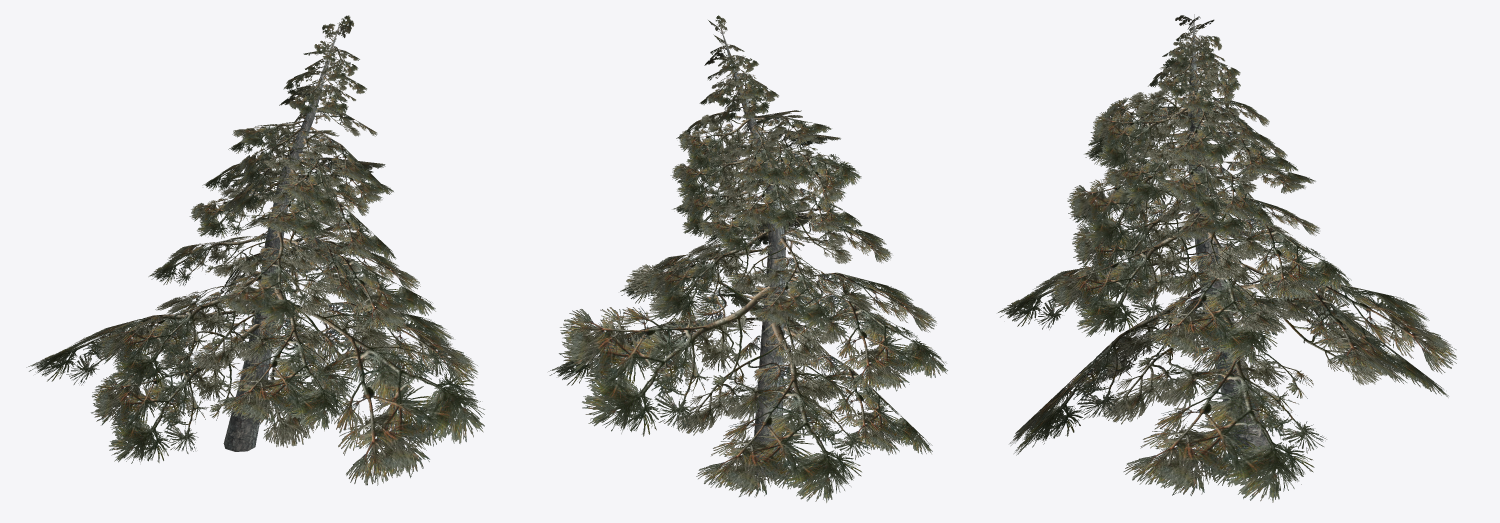
The model's file is pine_b.dae.
3 views of the same model, side by side, from view 1: azimuth 30°, elevation 25°; view 2: azimuth 150°, elevation 25°; view 3: azimuth 270°, elevation 25° (orthographic). The views are drawn at different scales.
Visible parts, largest first — view 1: pine_b; view 2: pine_b; view 3: pine_b.
Boxes of the visible parts, x1=… form: pine_b: x1=26, y1=15, x2=484, y2=485; pine_b: x1=548, y1=15, x2=947, y2=502; pine_b: x1=998, y1=14, x2=1456, y2=502.
Size of the model in its own units: 668 by 683 by 720.
